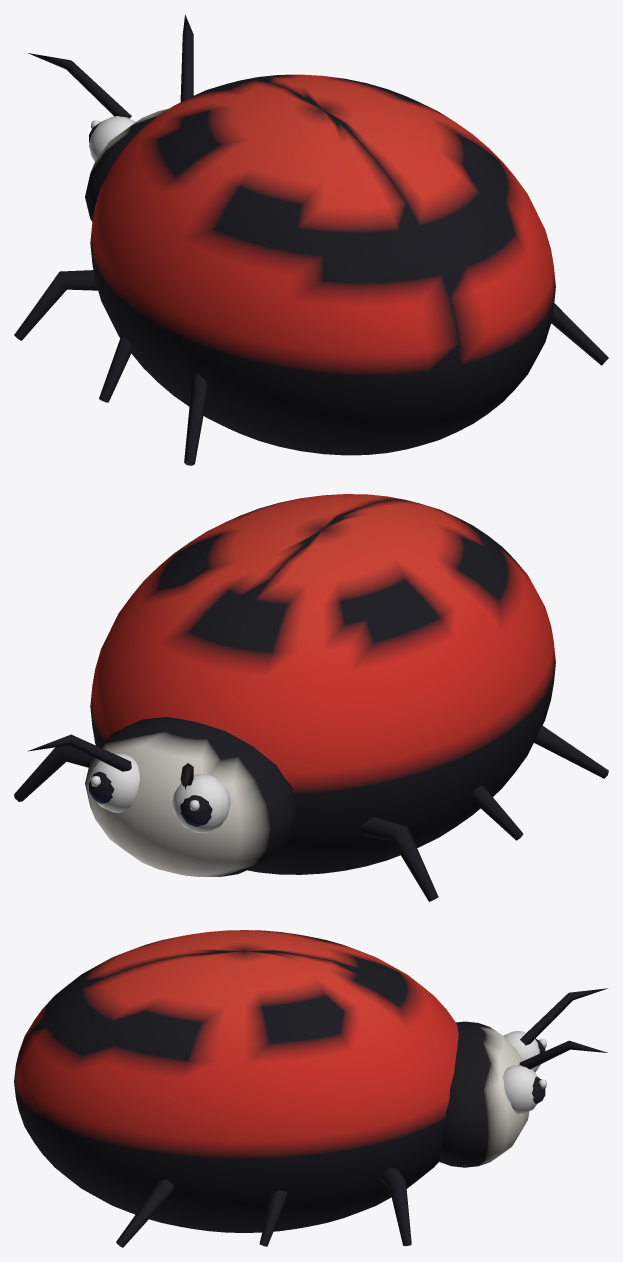
Rendered from Ladybug.fbx.
3 views of the same model, one above another, from view 1: azimuth 30°, elevation 25°; view 2: azimuth 150°, elevation 25°; view 3: azimuth 270°, elevation 25° (orthographic). The views are drawn at different scales.
Visible parts, largest first — view 1: Ladybug; view 2: Ladybug; view 3: Ladybug.
Part boxes in pixels (<box>): Ladybug: <box>14,14,608,465</box>; Ladybug: <box>14,494,608,901</box>; Ladybug: <box>14,930,607,1247</box>.
Bounding box in the file's own units: 0.428 × 0.3 × 0.62.
